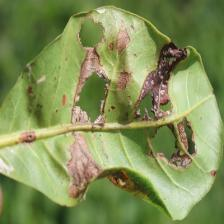leaf miner: (62, 16, 135, 201), (120, 41, 204, 177)
